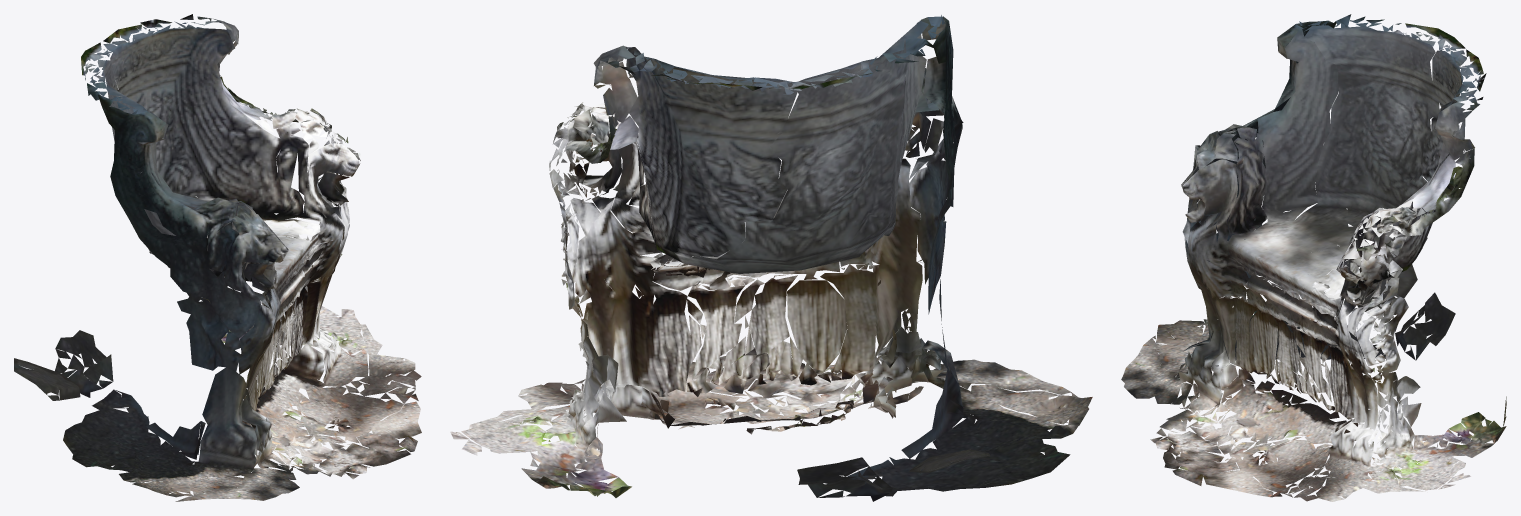
File: stone_chair_lion.glb
3 views of the same model, side by side, from view 1: azimuth 30°, elevation 25°; view 2: azimuth 150°, elevation 25°; view 3: azimuth 270°, elevation 25° (orthographic). The views are drawn at different scales.
Visible parts, largest first — view 1: Object_2, Object_3; view 2: Object_3, Object_2; view 3: Object_3, Object_2.
Boxes of the visible parts, x1=… form: Object_2: x1=14, y1=14, x2=421, y2=483; Object_3: x1=61, y1=60, x2=421, y2=501; Object_3: x1=461, y1=21, x2=1092, y2=497; Object_2: x1=450, y1=15, x2=1067, y2=501; Object_3: x1=1121, y1=25, x2=1506, y2=501; Object_2: x1=1150, y1=14, x2=1506, y2=501.
Size of the model in its own units: 2.47 by 2.23 by 2.2.
Materials: 1 (1 with a texture image).
